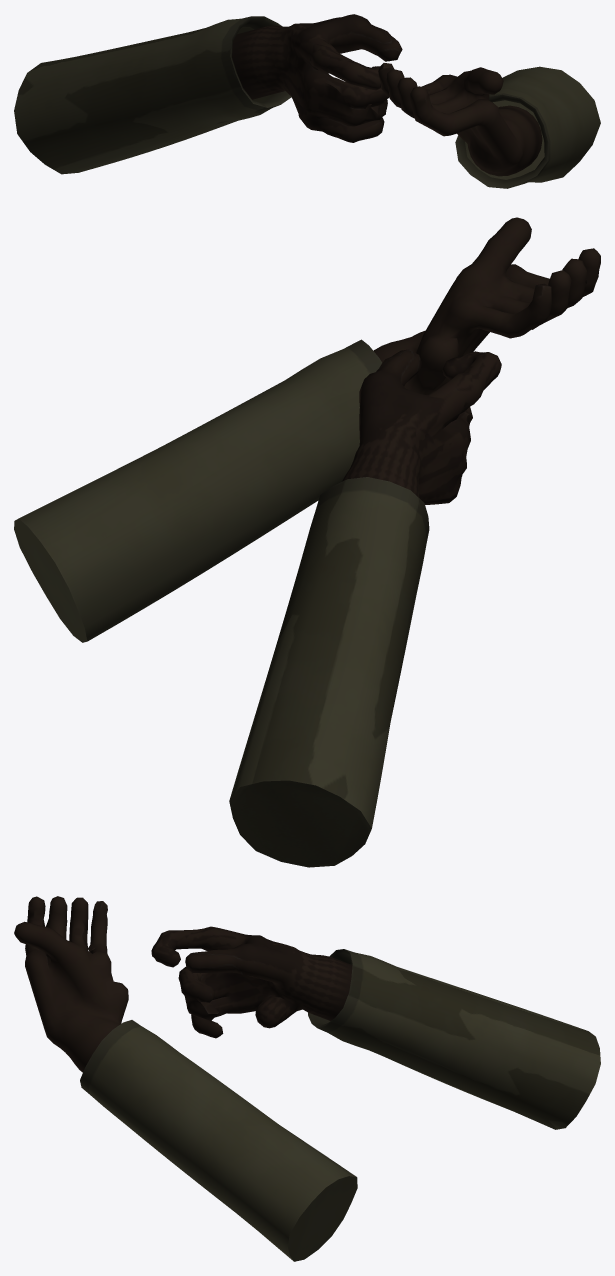
Rendered from SM_FPArms_IceGun.fbx.
The picture shows the model from 3 angles, top to bottom: view 1: azimuth 30°, elevation 25°; view 2: azimuth 150°, elevation 25°; view 3: azimuth 270°, elevation 25°; orthographic projection. The views are drawn at different scales.
Parts seen in each view (by area): view 1: RightArm_IceGun, LeftArm_IceGun; view 2: RightArm_IceGun, LeftArm_IceGun; view 3: LeftArm_IceGun, RightArm_IceGun.
Part boxes in pixels (<box>): RightArm_IceGun: <box>14,14,402,174</box>; LeftArm_IceGun: <box>378,63,600,188</box>; RightArm_IceGun: <box>229,349,501,867</box>; LeftArm_IceGun: <box>14,217,600,642</box>; LeftArm_IceGun: <box>14,896,357,1261</box>; RightArm_IceGun: <box>151,926,600,1129</box>.
Size of the model in its own units: 0.4404 by 0.2751 by 0.5731.
